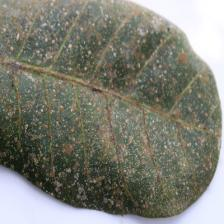red rust: (0, 0, 222, 218)
